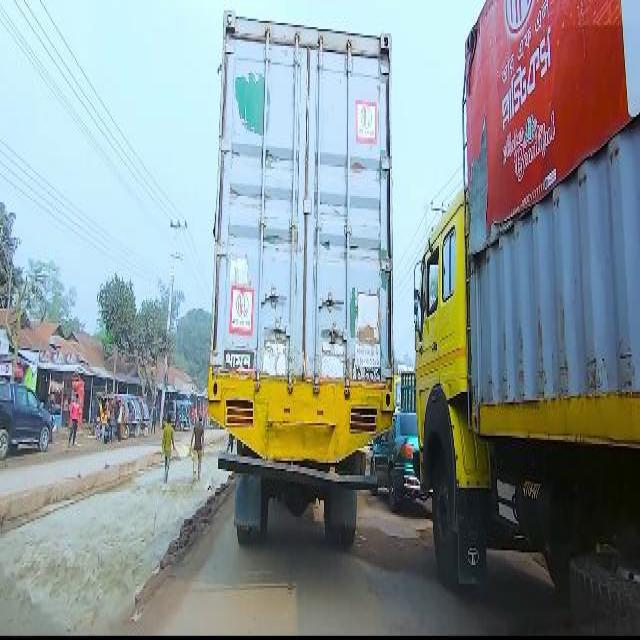auto rickshaw: (94, 392, 128, 436), (128, 394, 140, 434), (178, 400, 192, 428), (140, 397, 150, 435)
car: (378, 436, 416, 508)
suv: (2, 377, 54, 459)
truck: (415, 10, 639, 622), (214, 8, 388, 536)
